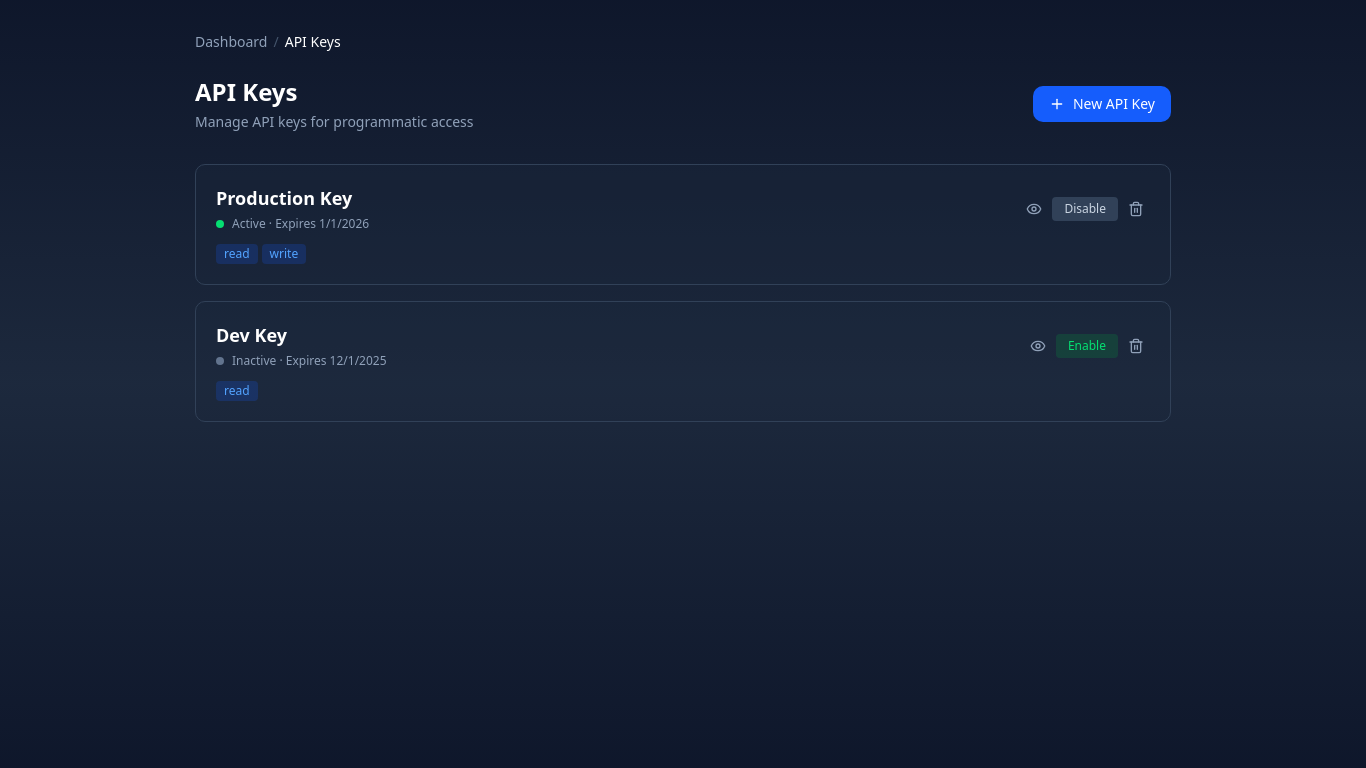
Scenario: ApiKeysPage › creates a new API key and shows the one-time key view
expect the heading "Production Key" is shown: met, box [216,185,369,212]
Click the button "New API Key" at (1102, 104), box [1033,86,1171,122]
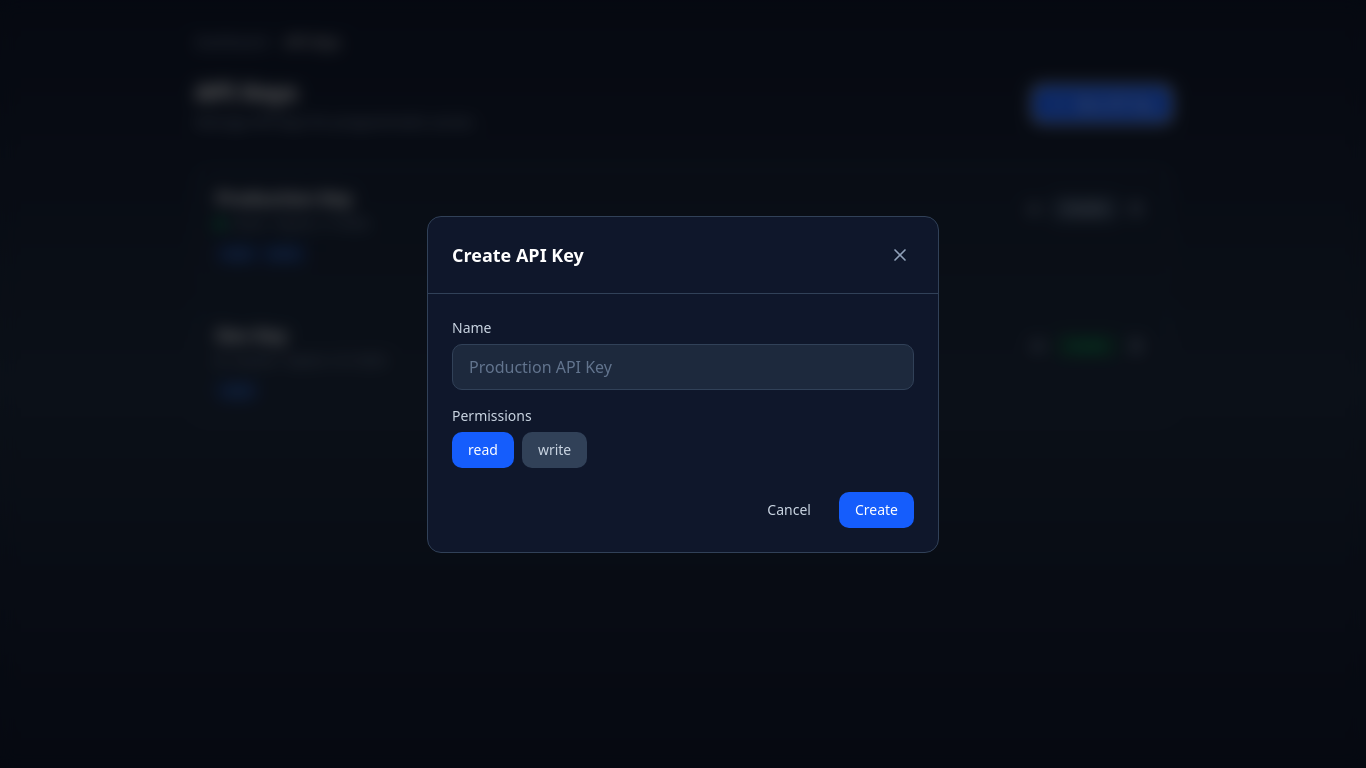
Type "New Key" into the field with placeholder "Production API Key" at (683, 366), box [452,344,914,390]
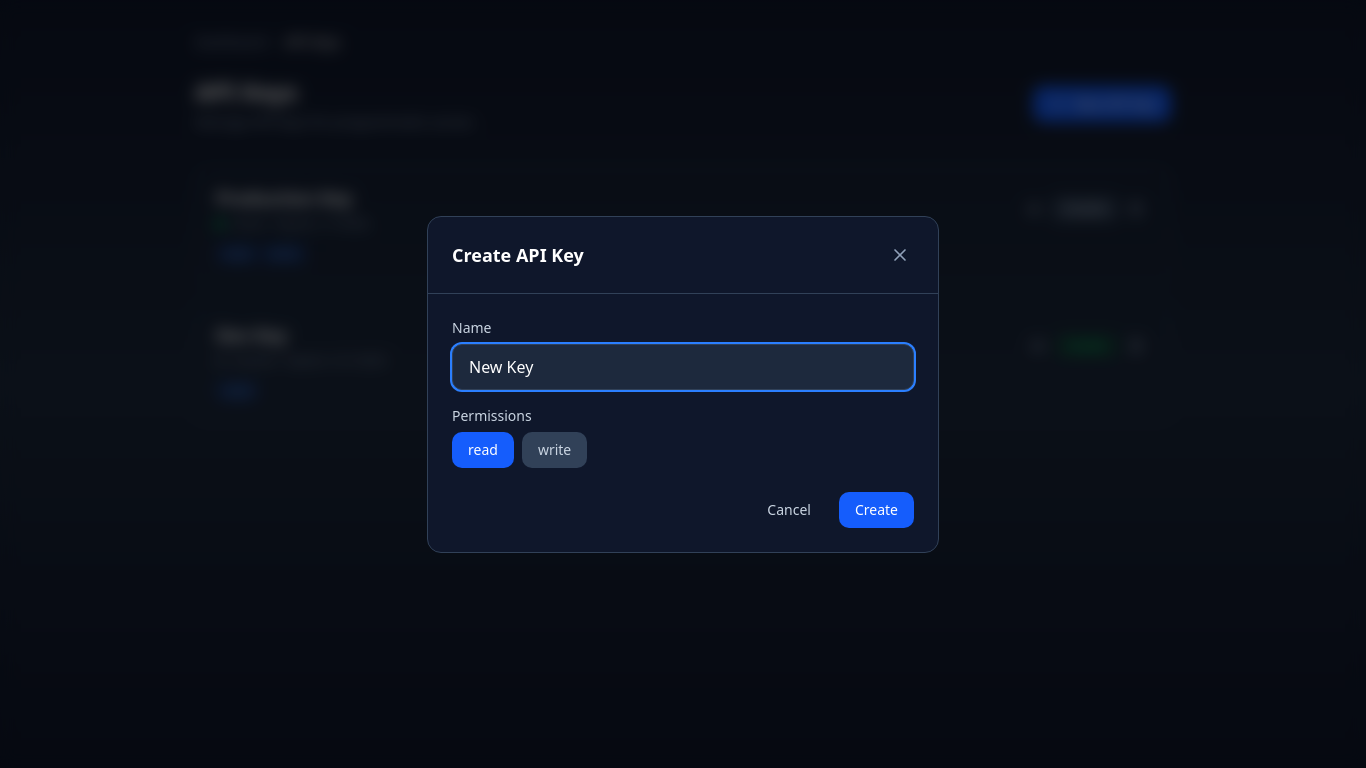
Click the button "Create" at (876, 510), box [839,492,914,528]
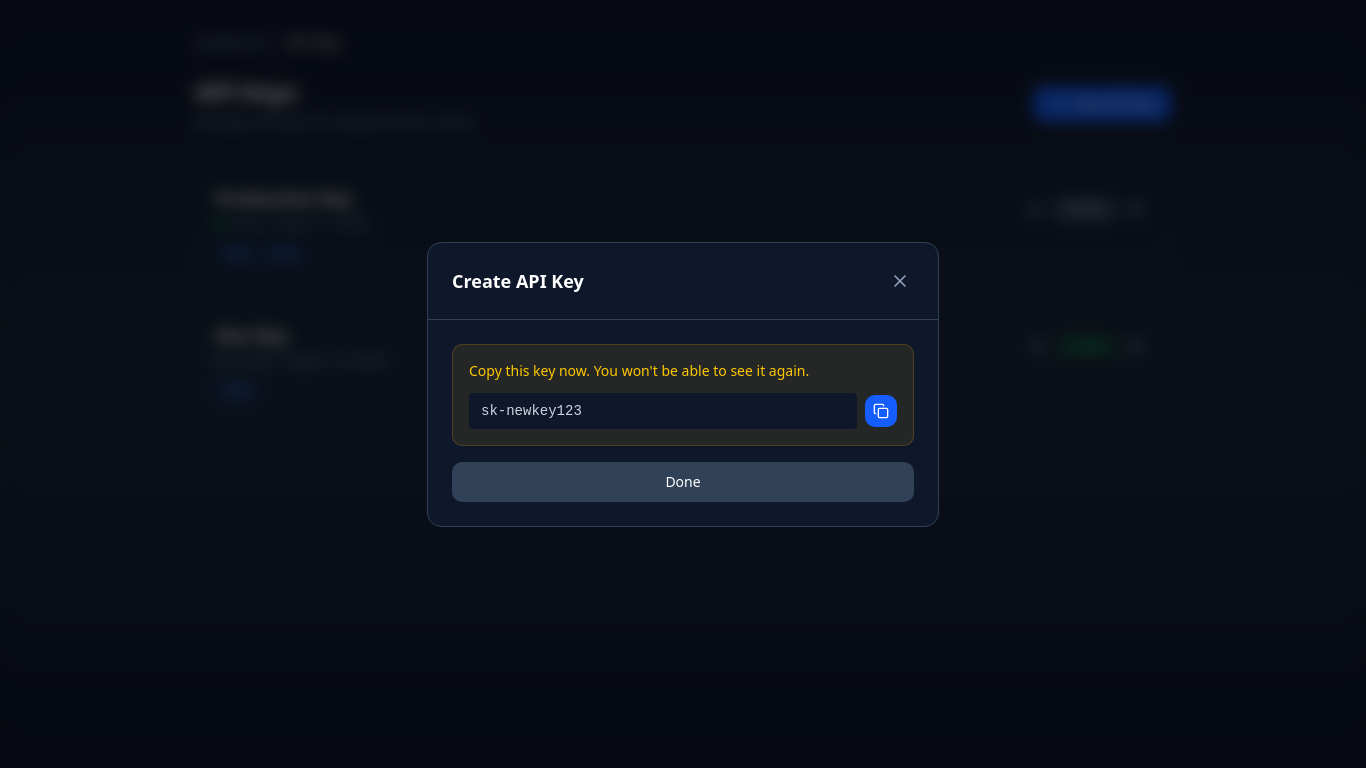
expect the text "Copy this key now. You won't be able to see it again." is shown: met, box [469,360,809,380]
expect the text "sk-newkey123" is shown: met, box [469,392,857,428]
